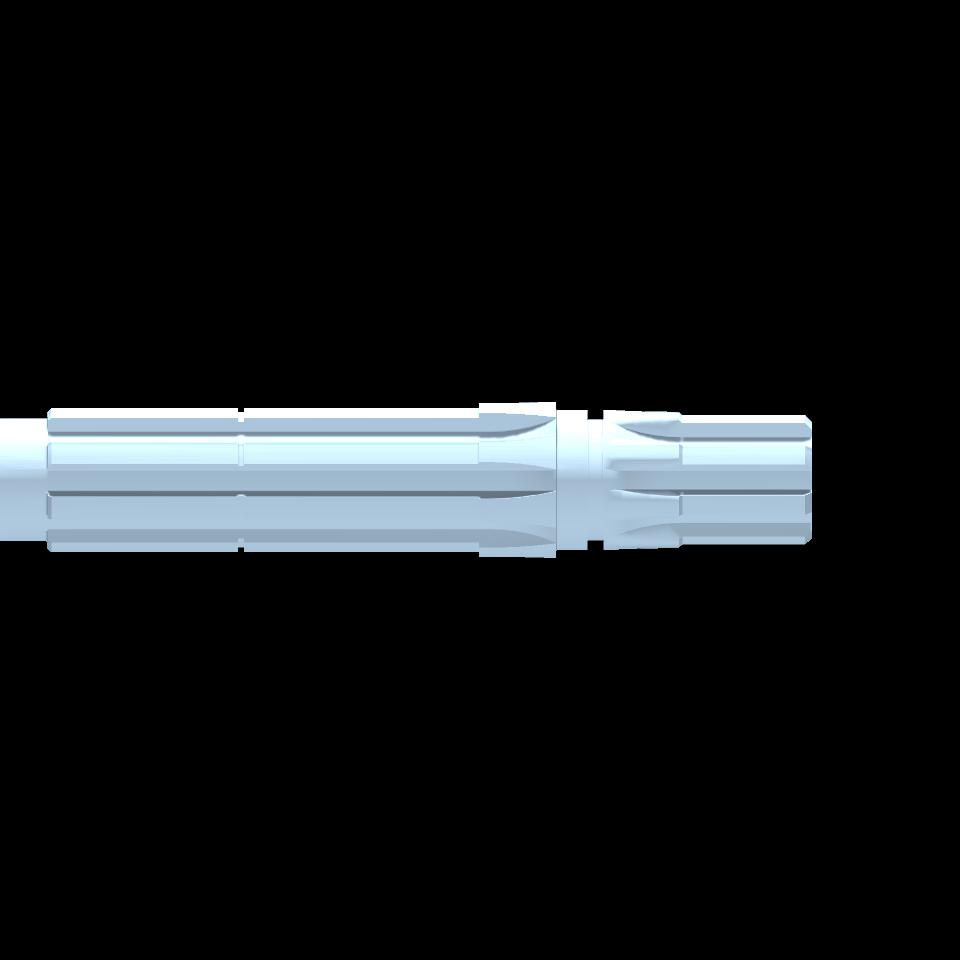Straight: (245, 408, 478, 553), (51, 409, 237, 550), (684, 416, 805, 547)
